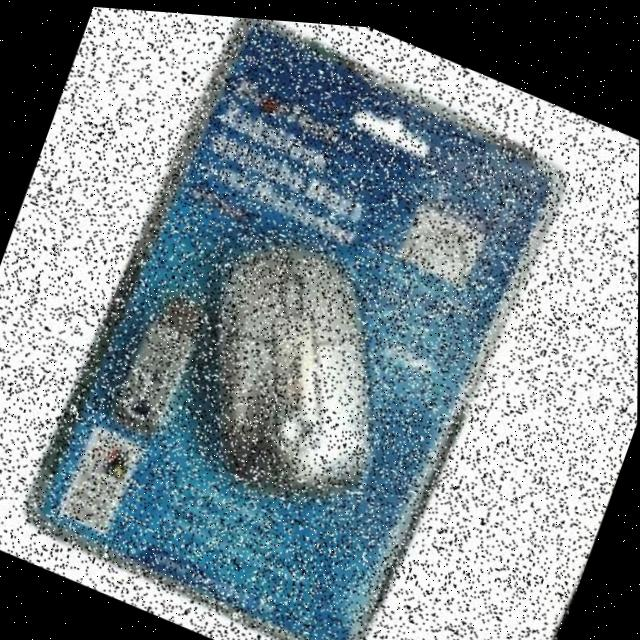mause: (67, 100, 541, 603)
